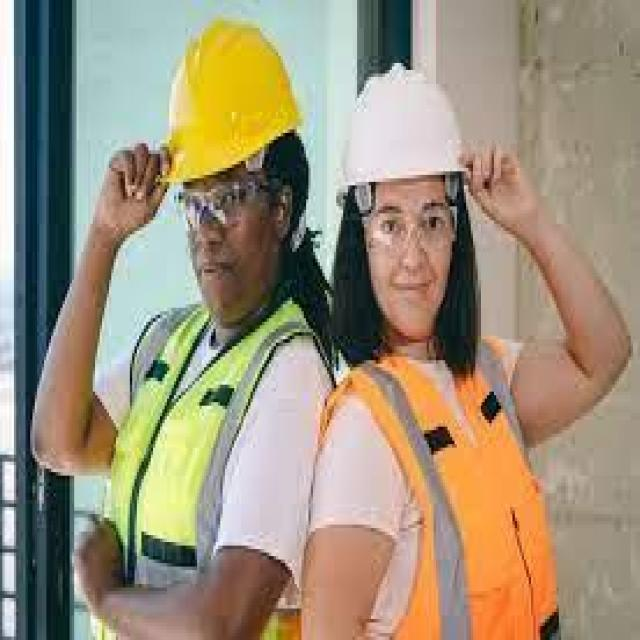vest: (329, 328, 561, 640), (118, 311, 294, 640)
